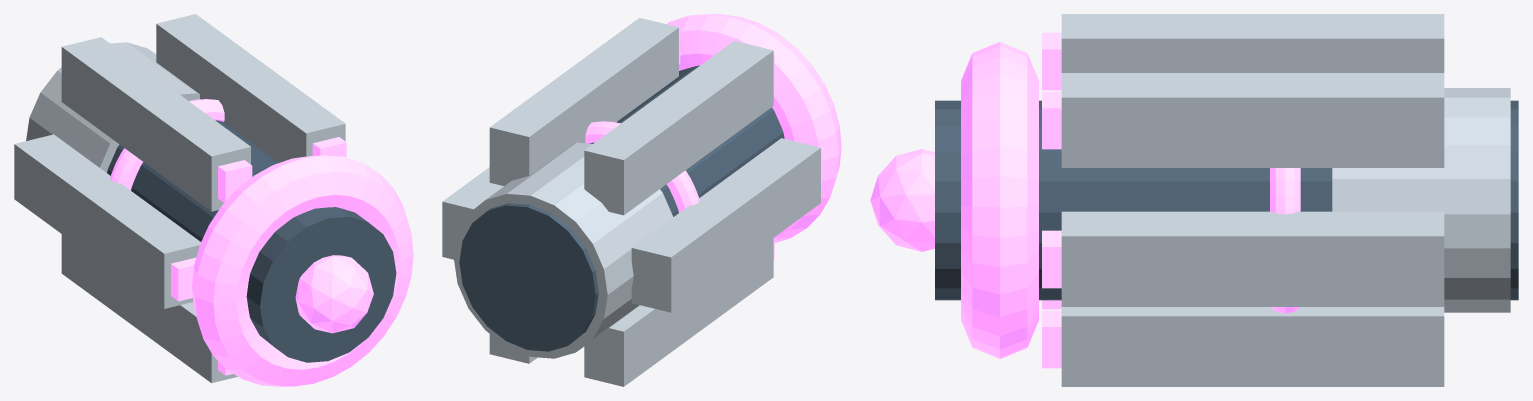
File: vortex-x.glb
The picture shows the model from 3 angles, left to right: view 1: azimuth 30°, elevation 25°; view 2: azimuth 150°, elevation 25°; view 3: azimuth 270°, elevation 25°; orthographic projection. The views are drawn at different scales.
Parts seen in each view (by area): view 1: Emitter3, Barrel0, ArmorFin9, ArmorFin11, ArmorFin7, ArmorFin13, Housing1, Muzzle4, Capacitor17, Lumen10, Lumen12, Lumen8; view 2: Barrel0, ArmorFin11, ArmorFin9, ArmorFin7, Housing1, Emitter3, ArmorFin13, ArmorFin5, Capacitor17, ArmorFin15; view 3: ArmorFin5, ArmorFin7, ArmorFin15, Emitter3, ArmorFin9, Barrel0, Housing1, Muzzle4, Capacitor17, Lumen6, Lumen8, Lumen10 (+1 smaller).
Part boxes in pixels (<box>): Emitter3: <box>192,155,413,386</box>; Barrel0: <box>107,120,396,362</box>; ArmorFin9: <box>61,37,250,211</box>; ArmorFin11: <box>14,134,200,308</box>; ArmorFin7: <box>156,14,345,162</box>; ArmorFin13: <box>61,234,237,383</box>; Housing1: <box>26,42,199,172</box>; Muzzle4: <box>295,255,373,333</box>; Capacitor17: <box>110,99,224,190</box>; Lumen10: <box>218,160,252,202</box>; Lumen12: <box>171,257,195,301</box>; Lumen8: <box>312,137,346,157</box>; Barrel0: <box>459,65,784,351</box>; ArmorFin11: <box>631,138,820,312</box>; ArmorFin9: <box>584,41,773,215</box>; ArmorFin7: <box>489,17,678,185</box>; Housing1: <box>453,142,672,358</box>; Emitter3: <box>666,14,841,242</box>; ArmorFin13: <box>584,238,773,386</box>; ArmorFin5: <box>442,167,503,259</box>; Capacitor17: <box>585,121,699,212</box>; ArmorFin15: <box>489,334,537,363</box>; ArmorFin5: <box>1061,211,1444,306</box>; ArmorFin7: <box>1061,73,1444,167</box>; ArmorFin15: <box>1061,307,1444,386</box>; Emitter3: <box>961,42,1038,358</box>; ArmorFin9: <box>1061,14,1444,72</box>; Barrel0: <box>935,100,1518,300</box>; Housing1: <box>1332,88,1510,312</box>; Muzzle4: <box>870,149,934,251</box>; Capacitor17: <box>1270,168,1300,313</box>; Lumen6: <box>1042,230,1061,288</box>; Lumen8: <box>1042,91,1061,149</box>; Lumen10: <box>1042,32,1061,90</box>.
Bounding box in the file's own units: 1.04 × 0.9848 × 2.
